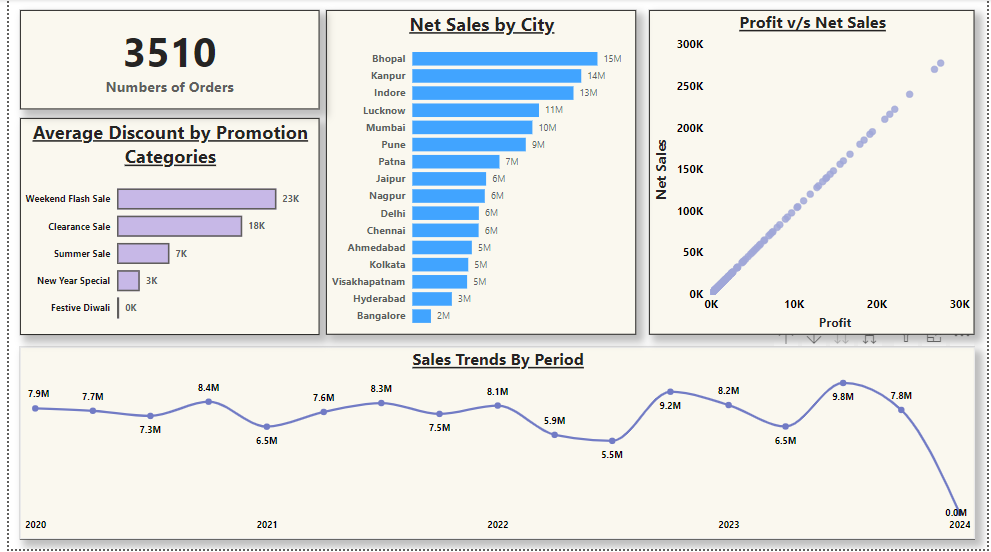

Layout of this report page (visuals, bound fields, positions):
{"tool":"powerbi","page":{"name":"Overview","canvas":[1280,720],"ordinal":0},"visuals":[{"type":"lineChart","title":"Sales  Trends By Period","fields":{"Y":["Sum(Fact Table.Net Sales)"],"Category":["Date Table 1.Date.Variation.Date Hierarchy.Year","Date Table 1.Date.Variation.Date Hierarchy.Quarter","Date Table 1.Date.Variation.Date Hierarchy.Month","Date Table 1.Date.Variation.Date Hierarchy.Day"]},"box":[14.4,455,1249.9,252],"z":0},{"type":"scatterChart","title":"Profit v/s Net Sales","fields":{"Y":["Fact Table.Net Sales"],"X":["Fact Table.Profit"]},"box":[838.1,14.4,426.2,424.8],"z":1000},{"type":"barChart","title":"Average Discount by Promotion Categories","fields":{"Y":["Avg(Fact Table.Discount Value)"],"Category":["Dim Promotion.Promotion Name"]},"box":[14.4,155.5,391.7,283.7],"z":2000},{"type":"barChart","fields":{"Category":["Dim Customers.City"],"Y":["Sum(Fact Table.Net Sales)"]},"box":[414.7,14.4,406.1,424.8],"z":3000},{"type":"card","fields":{"Values":["Count(Fact Table.Order No.)"]},"box":[14.4,14.4,391.7,129.6],"z":4000}]}

Visuals, with their boxes in screenshot pixels (x1, y1, x2, y2), scaled from the page's 1280x720 canvas onto the 991x552 screenshot:
"Sales  Trends By Period" lineChart: x1=11 y1=349 x2=979 y2=542
"Profit v/s Net Sales" scatterChart: x1=649 y1=11 x2=979 y2=337
"Average Discount by Promotion Categories" barChart: x1=11 y1=119 x2=314 y2=337
barChart - Dim Customers.City x Sum(Fact Table.Net Sales): x1=321 y1=11 x2=635 y2=337
card - Count(Fact Table.Order No.): x1=11 y1=11 x2=314 y2=110
